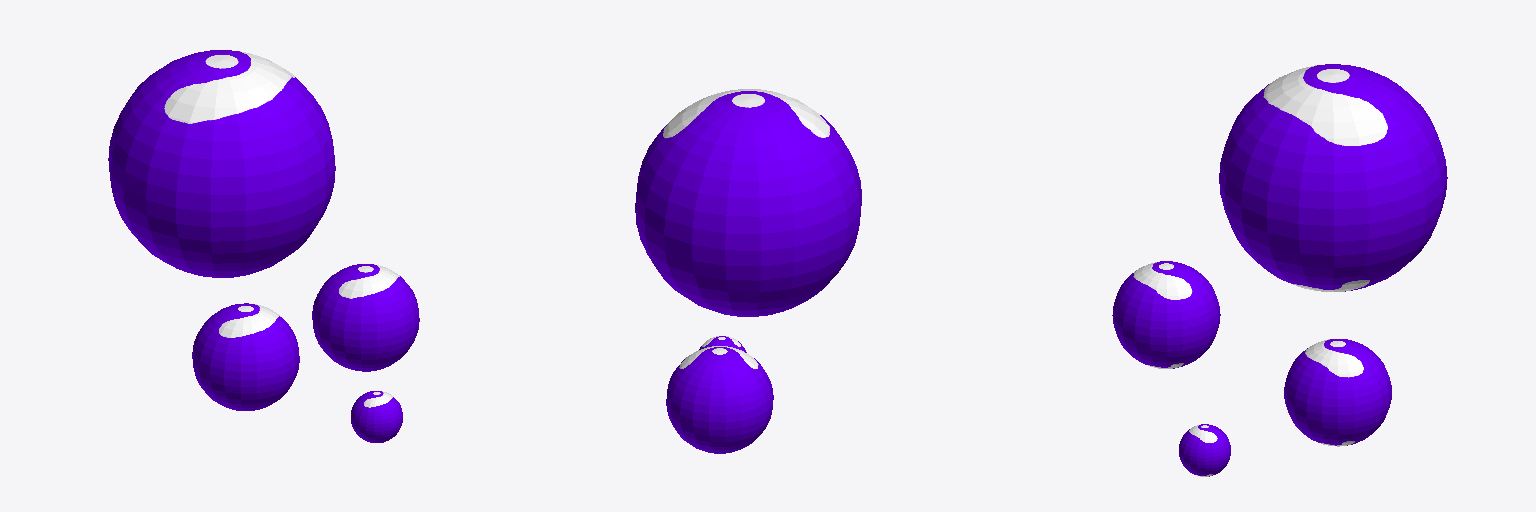
The picture shows the model from 3 angles: view 1: azimuth 30°, elevation 25°; view 2: azimuth 150°, elevation 25°; view 3: azimuth 270°, elevation 25°; orthographic projection.
Parts seen in each view (by area): view 1: pokeBurbujas:pasted__pSphere2group99, pokeBurbujas:pSphere2, pokeBurbujas:pasted__pSphere2group98, pokeBurbujas:pasted__pSphere2group100; view 2: pokeBurbujas:pasted__pSphere2group99, pokeBurbujas:pSphere2; view 3: pokeBurbujas:pasted__pSphere2group99, pokeBurbujas:pasted__pSphere2group98, pokeBurbujas:pSphere2, pokeBurbujas:pasted__pSphere2group100.
Part boxes in pixels (left/top/right/bottom): pokeBurbujas:pasted__pSphere2group99: left=108, top=50, right=335, bottom=277; pokeBurbujas:pSphere2: left=192, top=303, right=299, bottom=410; pokeBurbujas:pasted__pSphere2group98: left=312, top=264, right=419, bottom=371; pokeBurbujas:pasted__pSphere2group100: left=351, top=391, right=402, bottom=442; pokeBurbujas:pasted__pSphere2group99: left=635, top=89, right=861, bottom=316; pokeBurbujas:pSphere2: left=666, top=346, right=773, bottom=453; pokeBurbujas:pasted__pSphere2group99: left=1219, top=64, right=1447, bottom=291; pokeBurbujas:pasted__pSphere2group98: left=1112, top=261, right=1220, bottom=368; pokeBurbujas:pSphere2: left=1284, top=339, right=1391, bottom=446; pokeBurbujas:pasted__pSphere2group100: left=1179, top=424, right=1230, bottom=476.
Bounding box in the file's own units: 0.6054 × 0.9683 × 0.8269.
2 materials, 1 textured.